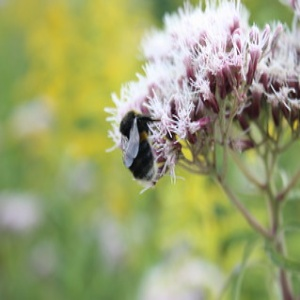bee: (118, 110, 165, 190)
